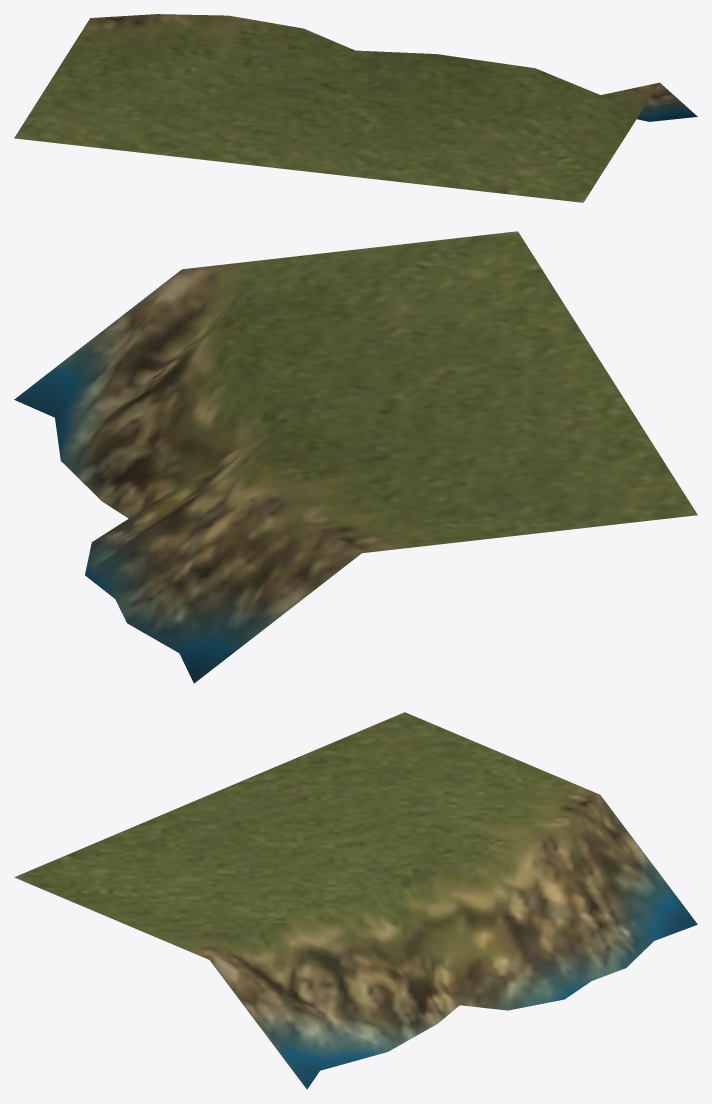
The model's file is Terrain@43.FBX.
3 renders of one model, top to bottom at view 1: azimuth 30°, elevation 25°; view 2: azimuth 150°, elevation 25°; view 3: azimuth 270°, elevation 25°, orthographic. The views are drawn at different scales.
Parts seen in each view (by area): view 1: Terrain@43; view 2: Terrain@43; view 3: Terrain@43.
Part boxes in pixels (<box>): Terrain@43: <box>14,14,697,202</box>; Terrain@43: <box>14,231,697,683</box>; Terrain@43: <box>14,712,697,1089</box>.
Bounding box in the file's own units: 124 × 17.68 × 124.
